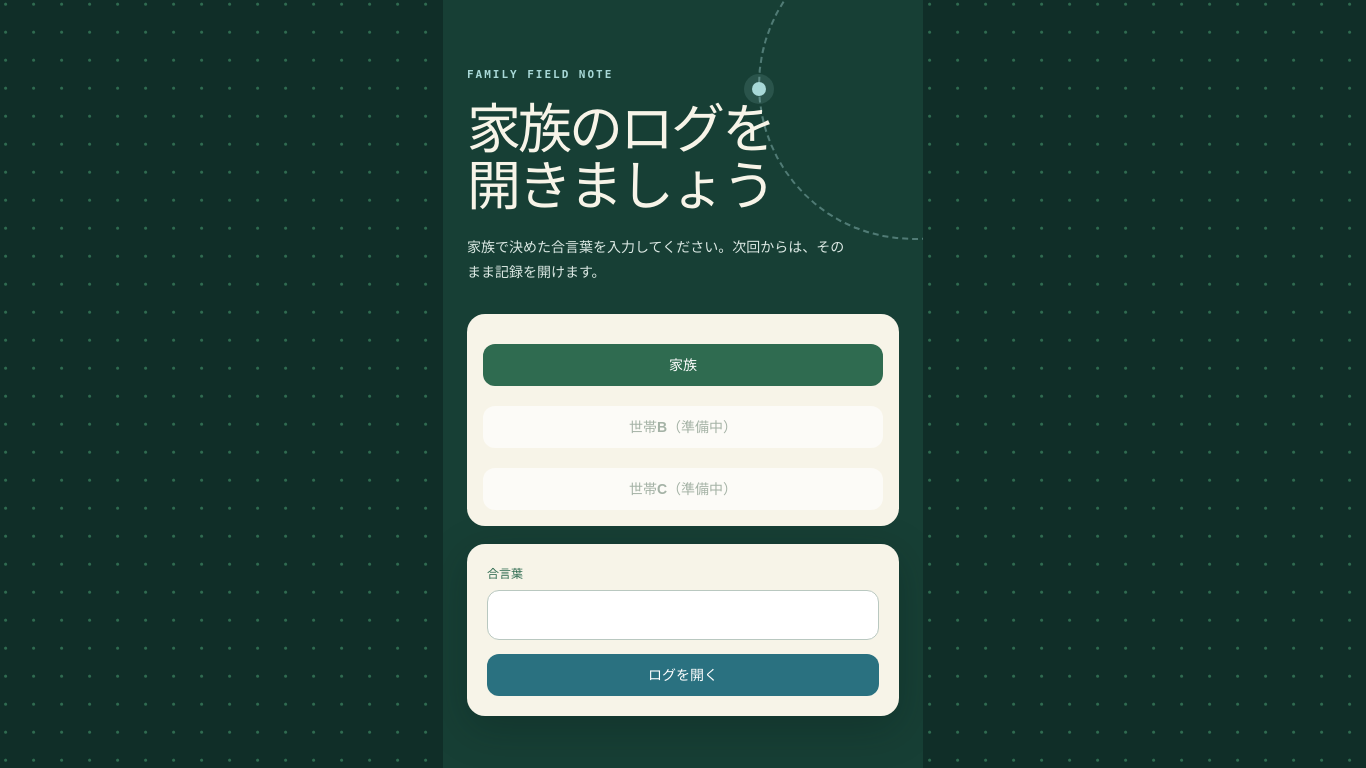
Test: AuthGate › 空の合言葉は送信しない
Click the button "ログを開く".
click(683, 675)  # box x1=487 y1=654 x2=879 y2=696
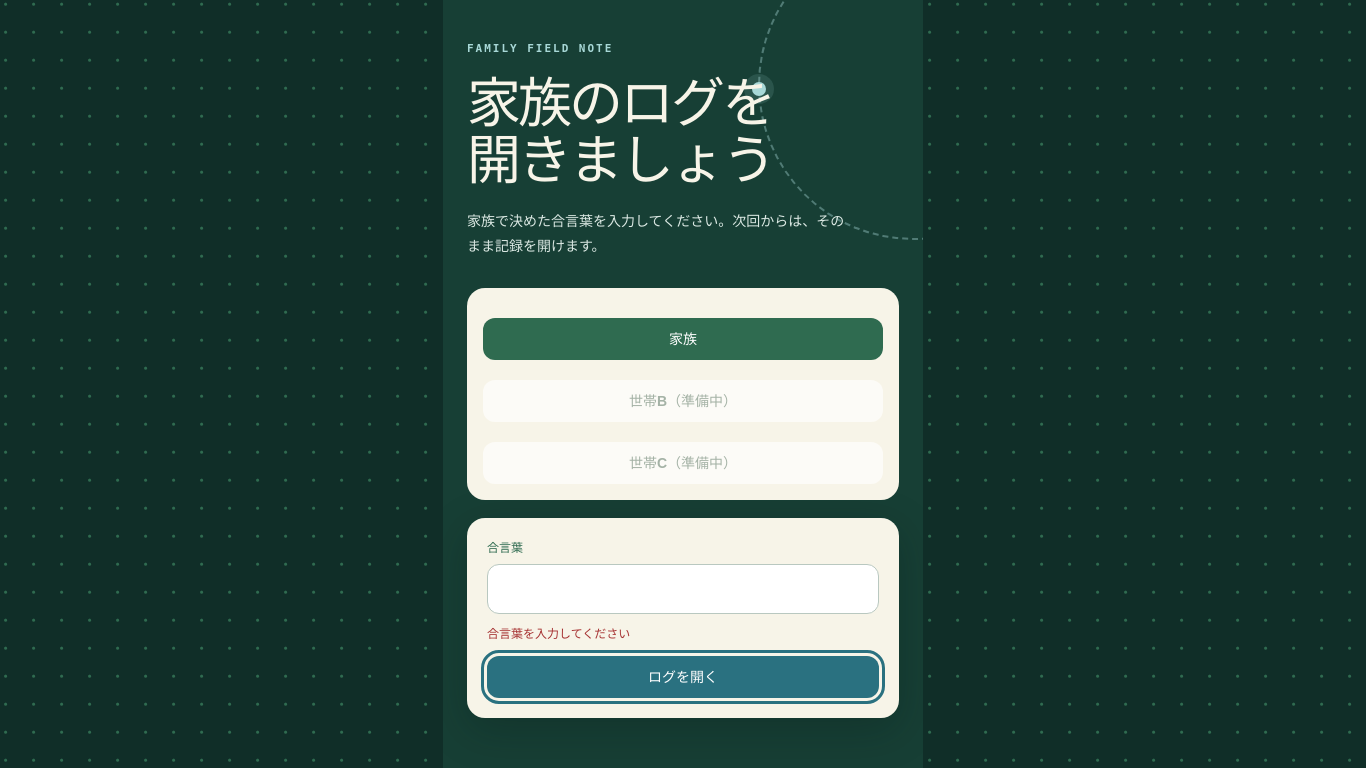
Check: the text "合言葉を入力してください" is shown, box x1=487 y1=625 x2=630 y2=642
